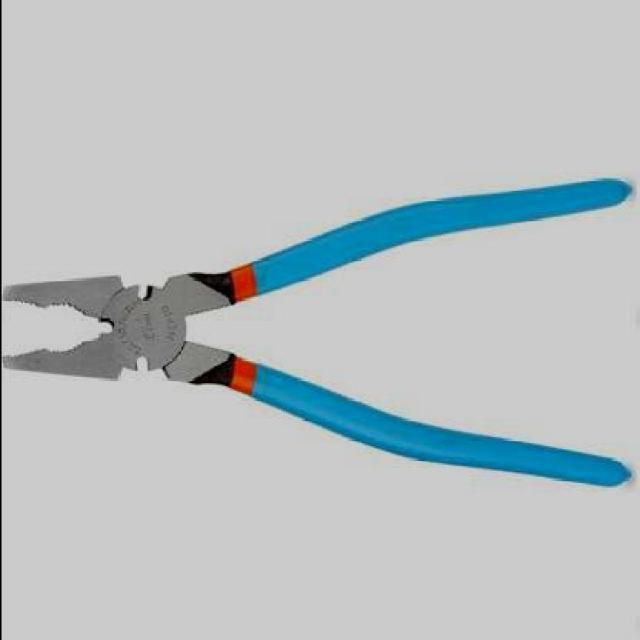pliers: (4, 180, 624, 491)
